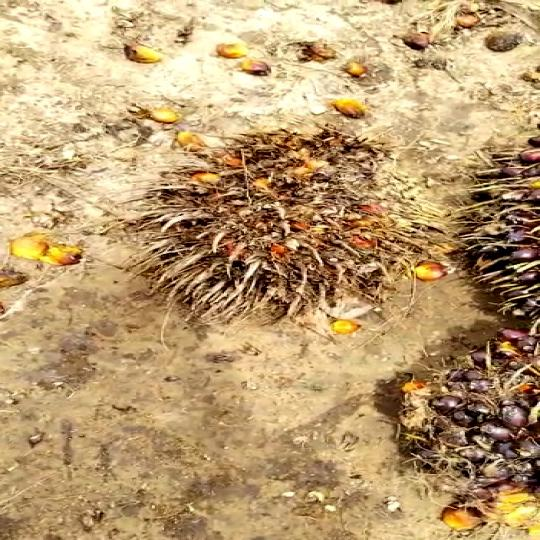terlalu masak: (136, 126, 439, 342)
